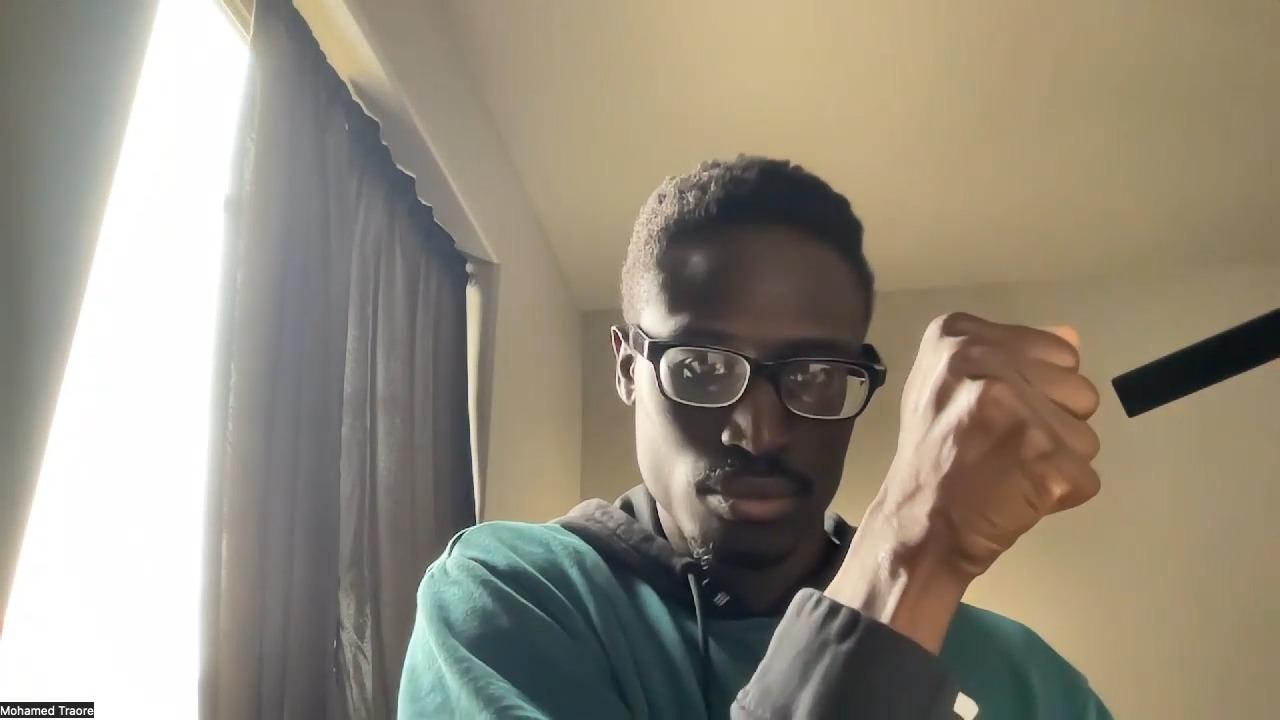Rock: (892, 312, 1103, 567)
